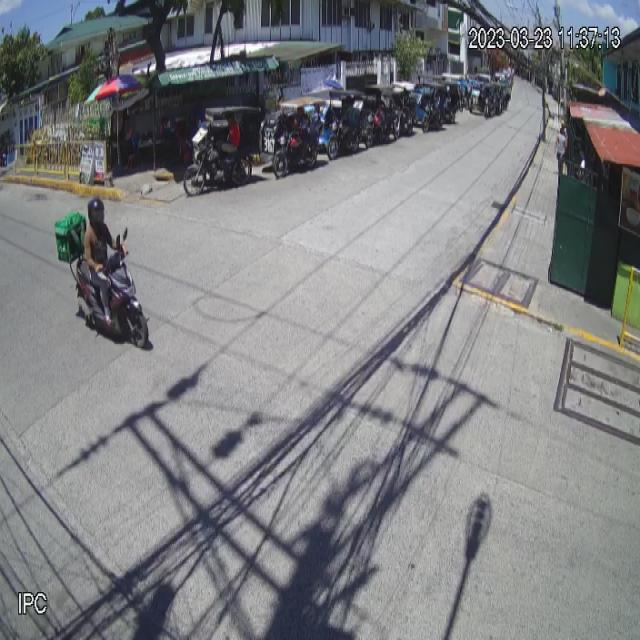Motorcycle: (74, 228, 149, 349)
